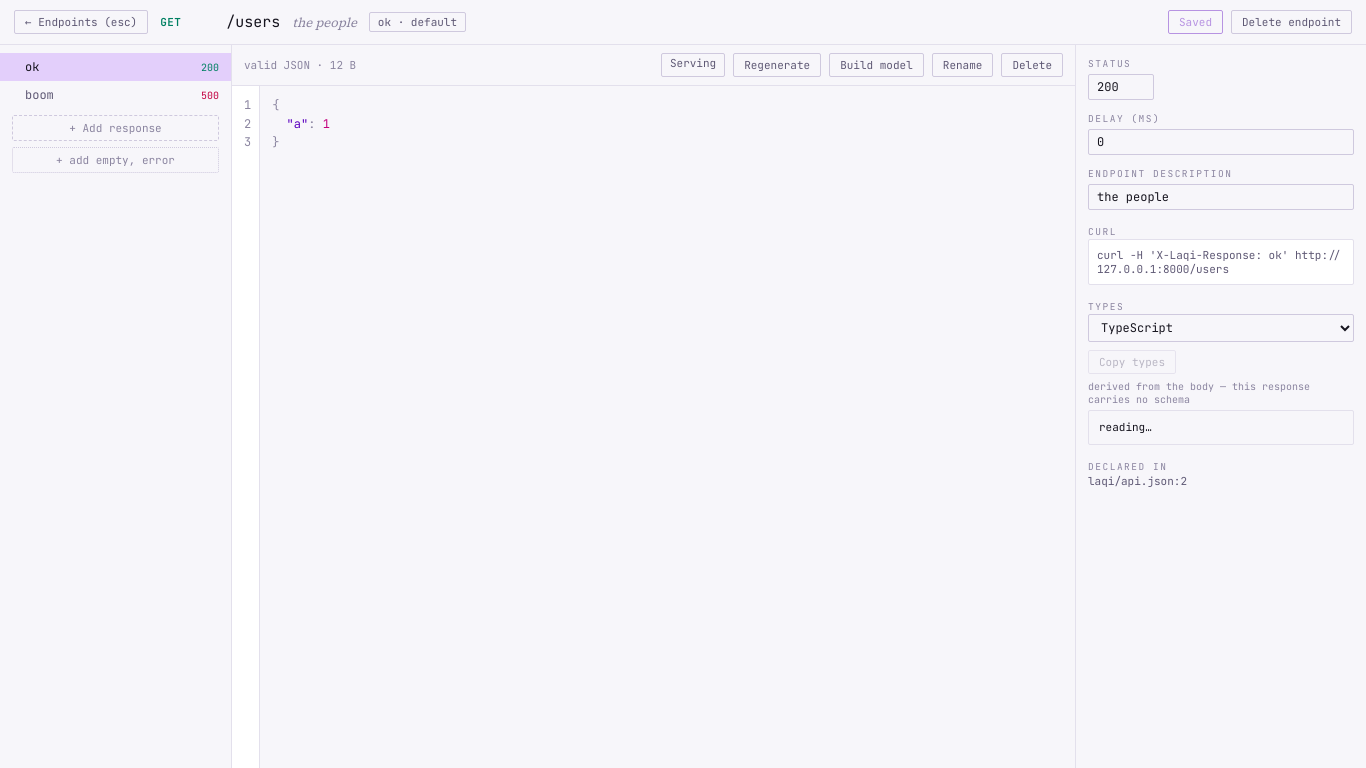
Test case: renaming a response (no window.prompt) › cancels on a click on the overlay but not on a click inside the card
The width and height of the screenshot is (1366, 768).
Click the button "Rename".
click(963, 65)  # box [932,53,993,77]
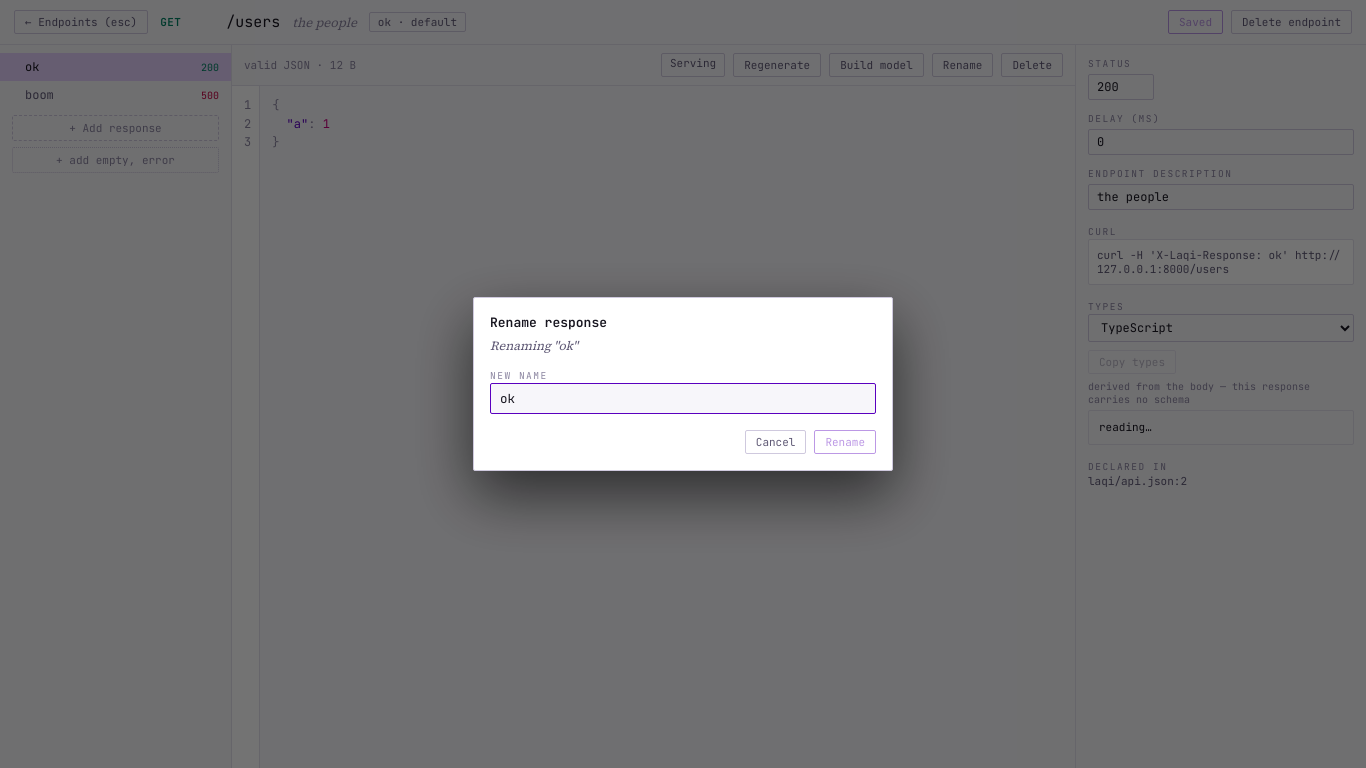
Press the mouse on the dialog at (683, 384), box [473,297,893,471]
Expected: the field labelled "new name" is shown, [490,383,876,414]
Press the mouse on the element with class "dialog-backdrop" at (683, 384), box [0,0,1365,767]
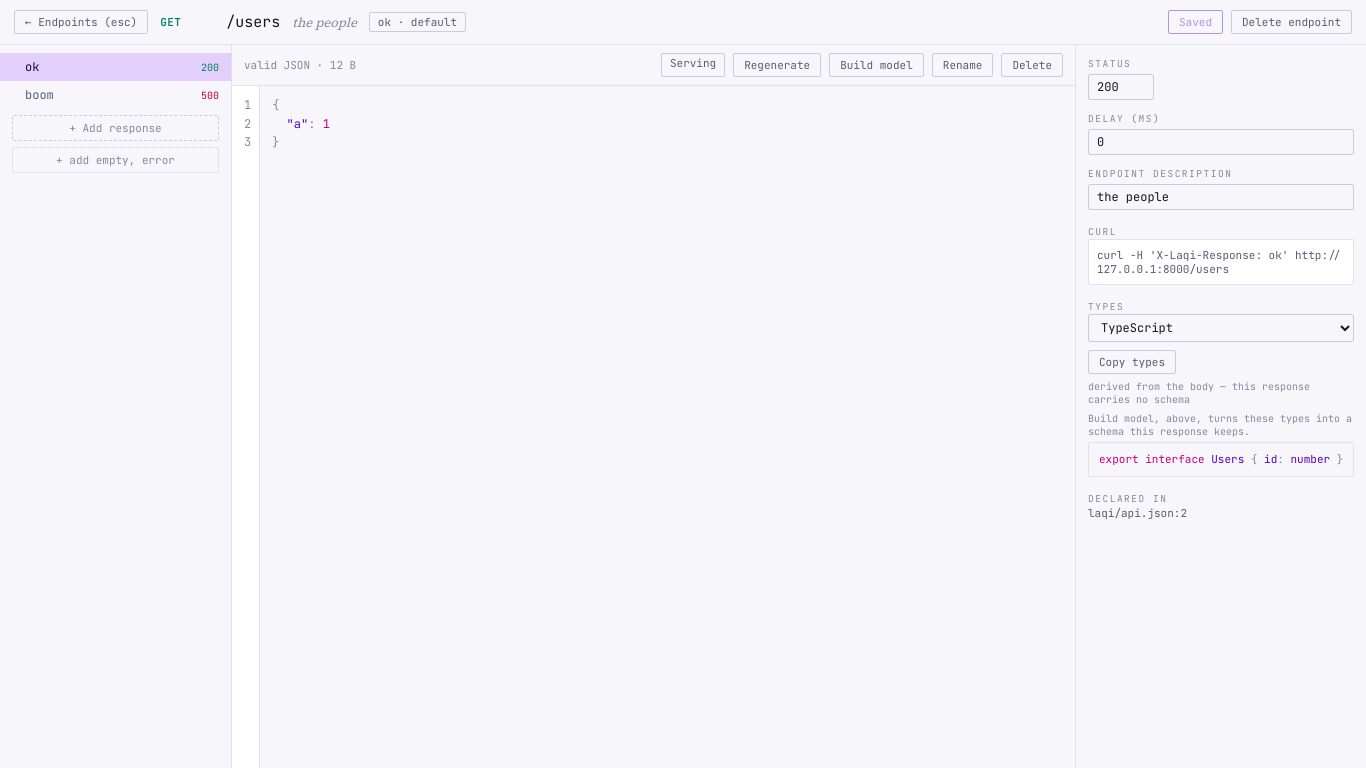
Expected: the label labelled "new name" is gone
